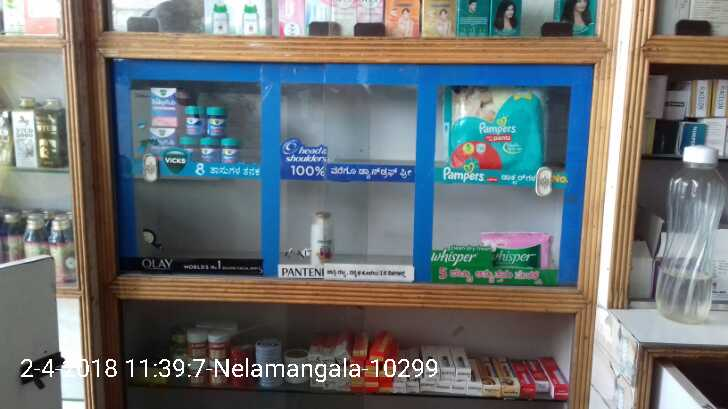vicks: (144, 85, 242, 162)
